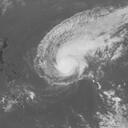cyclone: (34, 7, 110, 86)
